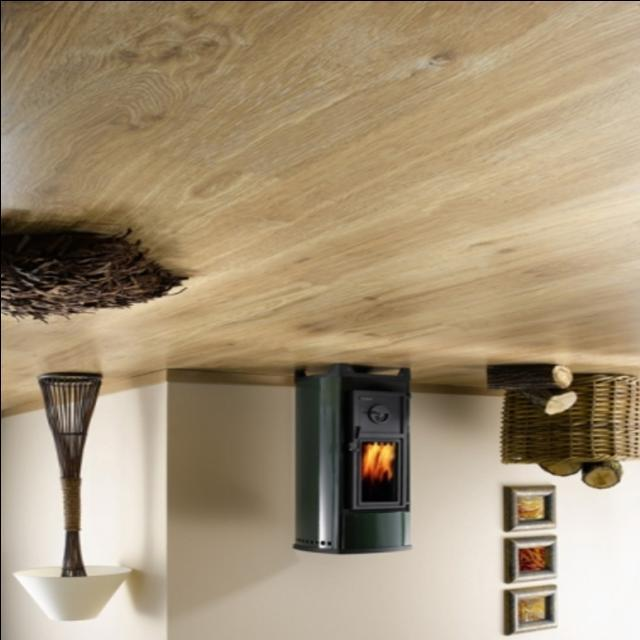Fire: (351, 433, 411, 513)
